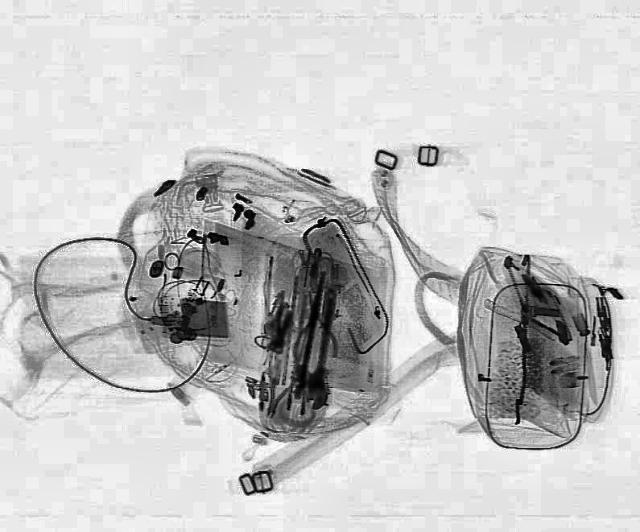Wrench: (300, 288, 340, 410)
